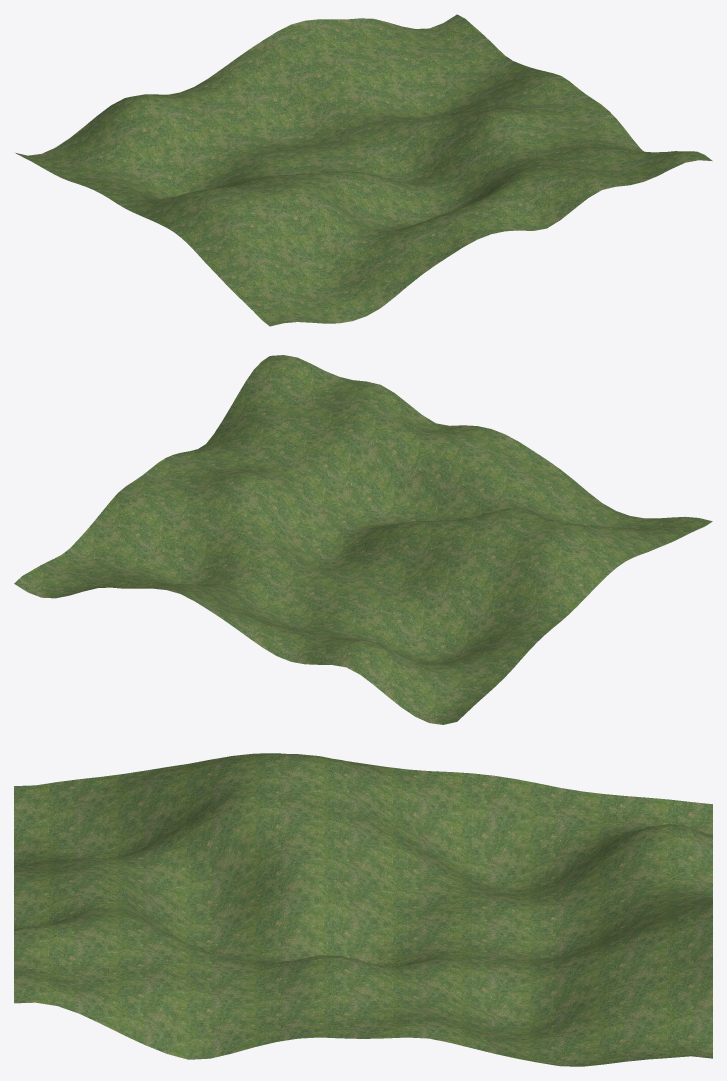
File: GrassFieldsfbx.fbx
3 views of the same model, one above another, from view 1: azimuth 30°, elevation 25°; view 2: azimuth 150°, elevation 25°; view 3: azimuth 270°, elevation 25° (orthographic). The views are drawn at different scales.
Visible parts, largest first — view 1: Grass; view 2: Grass; view 3: Grass.
Boxes of the visible parts, x1,y1,x2,y2 form: Grass: [15, 14, 712, 326]; Grass: [14, 355, 712, 724]; Grass: [14, 753, 712, 1066].
Bounding box in the file's own units: 111809 × 21512 × 111809.
1 material, 1 textured.
